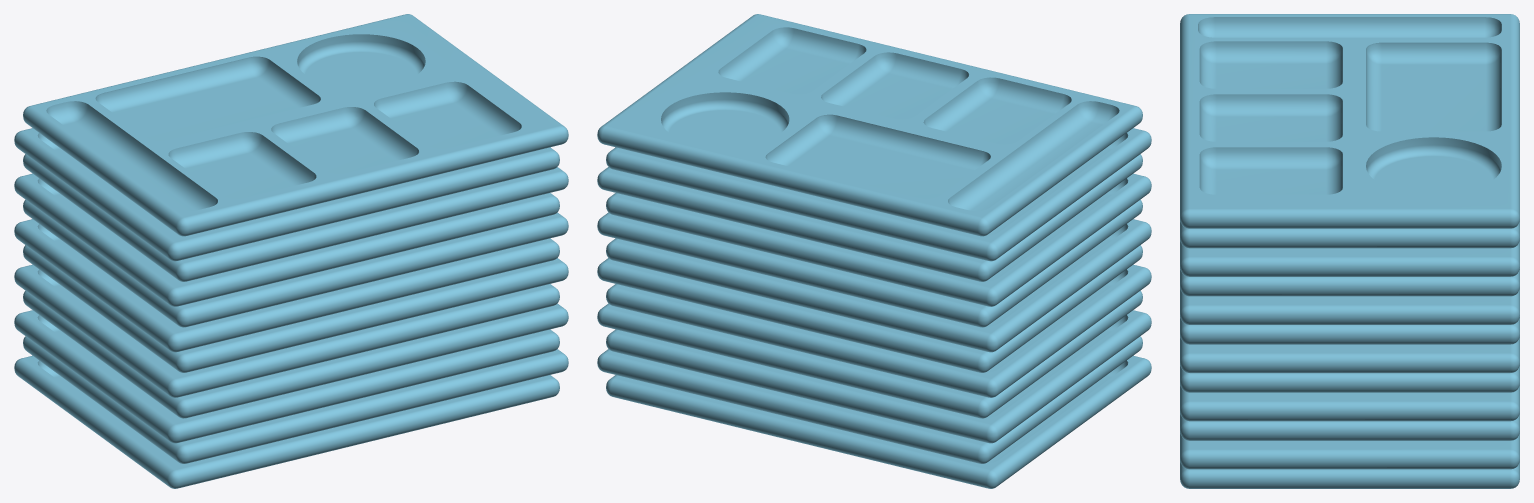
File: bandeja_pilha_realista.glb
3 views of the same model, side by side, from view 1: azimuth 30°, elevation 25°; view 2: azimuth 150°, elevation 25°; view 3: azimuth 270°, elevation 25° (orthographic). The views are drawn at different scales.
Parts seen in each view (by area): view 1: Refeitorio_Bandeja.023, Refeitorio_Bandeja.012, Refeitorio_Bandeja.014, Refeitorio_Bandeja.020, Refeitorio_Bandeja.022, Refeitorio_Bandeja.016, Refeitorio_Bandeja.018, Refeitorio_Bandeja.019, Refeitorio_Bandeja.015, Refeitorio_Bandeja.013, Refeitorio_Bandeja.021, Refeitorio_Bandeja.017; view 2: Refeitorio_Bandeja.023, Refeitorio_Bandeja.012, Refeitorio_Bandeja.016, Refeitorio_Bandeja.020, Refeitorio_Bandeja.022, Refeitorio_Bandeja.014, Refeitorio_Bandeja.018, Refeitorio_Bandeja.015, Refeitorio_Bandeja.019, Refeitorio_Bandeja.021, Refeitorio_Bandeja.013, Refeitorio_Bandeja.017; view 3: Refeitorio_Bandeja.023, Refeitorio_Bandeja.015, Refeitorio_Bandeja.017, Refeitorio_Bandeja.013, Refeitorio_Bandeja.021, Refeitorio_Bandeja.019, Refeitorio_Bandeja.022, Refeitorio_Bandeja.014, Refeitorio_Bandeja.016, Refeitorio_Bandeja.018, Refeitorio_Bandeja.020, Refeitorio_Bandeja.012.
Part boxes in pixels (x1,y1,x2,y2): Refeitorio_Bandeja.023: [23, 14, 568, 236]; Refeitorio_Bandeja.012: [14, 355, 559, 488]; Refeitorio_Bandeja.014: [14, 310, 559, 443]; Refeitorio_Bandeja.020: [14, 173, 559, 306]; Refeitorio_Bandeja.022: [14, 128, 559, 261]; Refeitorio_Bandeja.016: [14, 264, 559, 397]; Refeitorio_Bandeja.018: [14, 219, 559, 352]; Refeitorio_Bandeja.019: [23, 199, 568, 327]; Refeitorio_Bandeja.015: [23, 291, 568, 418]; Refeitorio_Bandeja.013: [23, 336, 568, 463]; Refeitorio_Bandeja.021: [23, 154, 568, 281]; Refeitorio_Bandeja.017: [23, 245, 568, 372]; Refeitorio_Bandeja.023: [597, 14, 1142, 236]; Refeitorio_Bandeja.012: [606, 355, 1151, 488]; Refeitorio_Bandeja.016: [606, 264, 1151, 397]; Refeitorio_Bandeja.020: [606, 173, 1151, 306]; Refeitorio_Bandeja.022: [606, 128, 1151, 261]; Refeitorio_Bandeja.014: [606, 310, 1151, 443]; Refeitorio_Bandeja.018: [606, 219, 1151, 352]; Refeitorio_Bandeja.015: [597, 291, 1142, 418]; Refeitorio_Bandeja.019: [597, 199, 1142, 327]; Refeitorio_Bandeja.021: [597, 154, 1142, 281]; Refeitorio_Bandeja.013: [597, 336, 1142, 463]; Refeitorio_Bandeja.017: [597, 245, 1142, 372]; Refeitorio_Bandeja.023: [1180, 14, 1519, 228]; Refeitorio_Bandeja.015: [1180, 384, 1519, 421]; Refeitorio_Bandeja.017: [1180, 336, 1519, 373]; Refeitorio_Bandeja.013: [1180, 432, 1519, 469]; Refeitorio_Bandeja.021: [1180, 239, 1519, 276]; Refeitorio_Bandeja.019: [1180, 288, 1519, 324]; Refeitorio_Bandeja.022: [1180, 220, 1519, 248]; Refeitorio_Bandeja.014: [1180, 412, 1519, 440]; Refeitorio_Bandeja.016: [1180, 364, 1519, 392]; Refeitorio_Bandeja.018: [1180, 316, 1519, 344]; Refeitorio_Bandeja.020: [1180, 268, 1519, 296]; Refeitorio_Bandeja.012: [1180, 460, 1519, 488].
Size of the model in its own units: 0.46 by 0.295 by 0.32.
